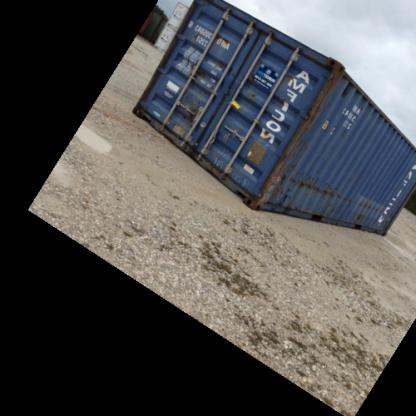Damage: (296, 52, 348, 144), (280, 169, 378, 217), (176, 97, 211, 127), (184, 56, 214, 82)
